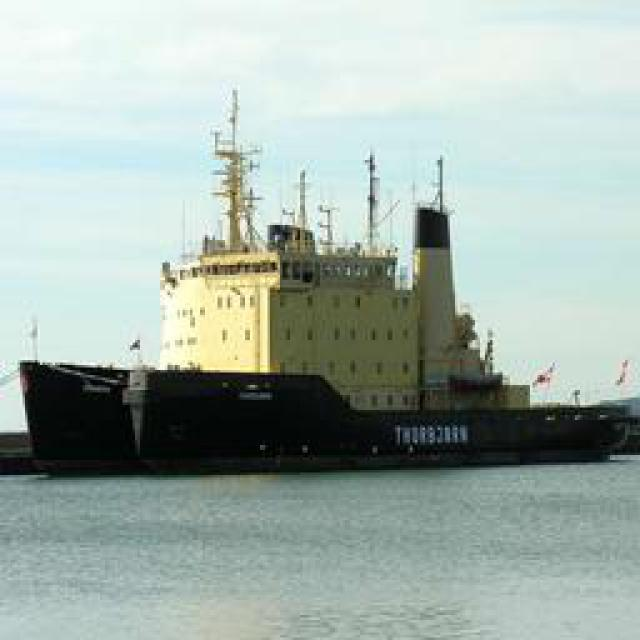Ship: (25, 81, 625, 466)
